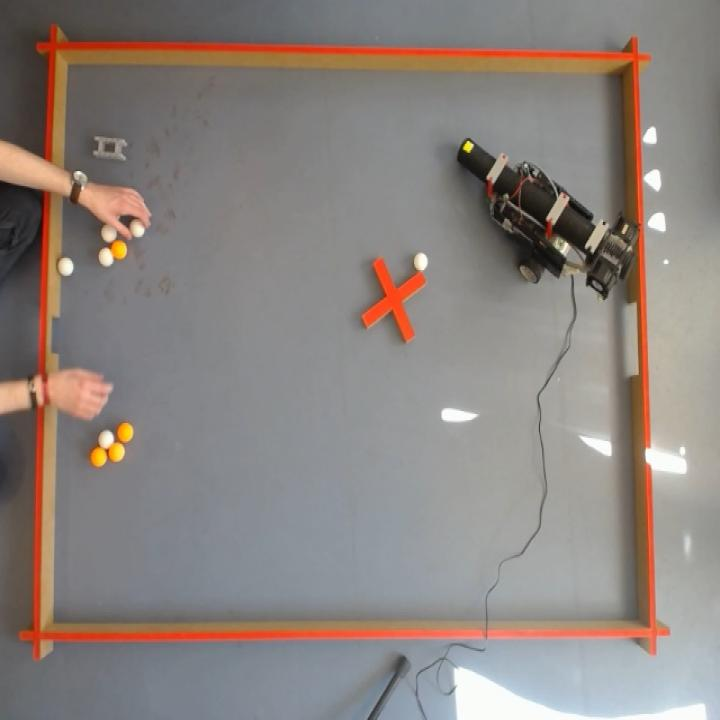orange: (110, 236, 127, 262), (91, 447, 107, 468), (117, 422, 133, 442), (109, 442, 125, 461)
robot: (458, 138, 640, 299)
robot-front: (458, 138, 491, 179)
white: (56, 256, 77, 280), (412, 250, 430, 274), (97, 245, 113, 269), (99, 428, 114, 451), (101, 222, 115, 246)
